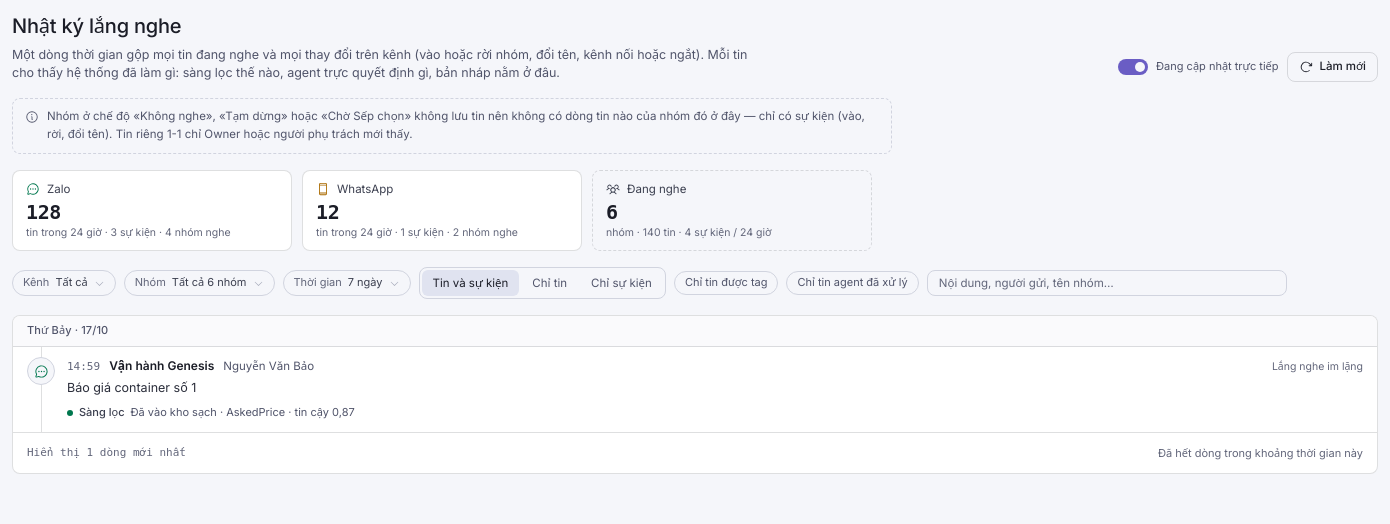
Test: vẽ màn › lọc gửi đúng tham số phía máy chủ (chỉ tin được tag, chỉ sự kiện, tìm chữ, xoá bộ lọc)
Expected: the text "Báo giá container số 1" is shown, [67, 380, 196, 395]
Click the button "Chỉ tin được tag" at (726, 283), box [674, 271, 778, 295]
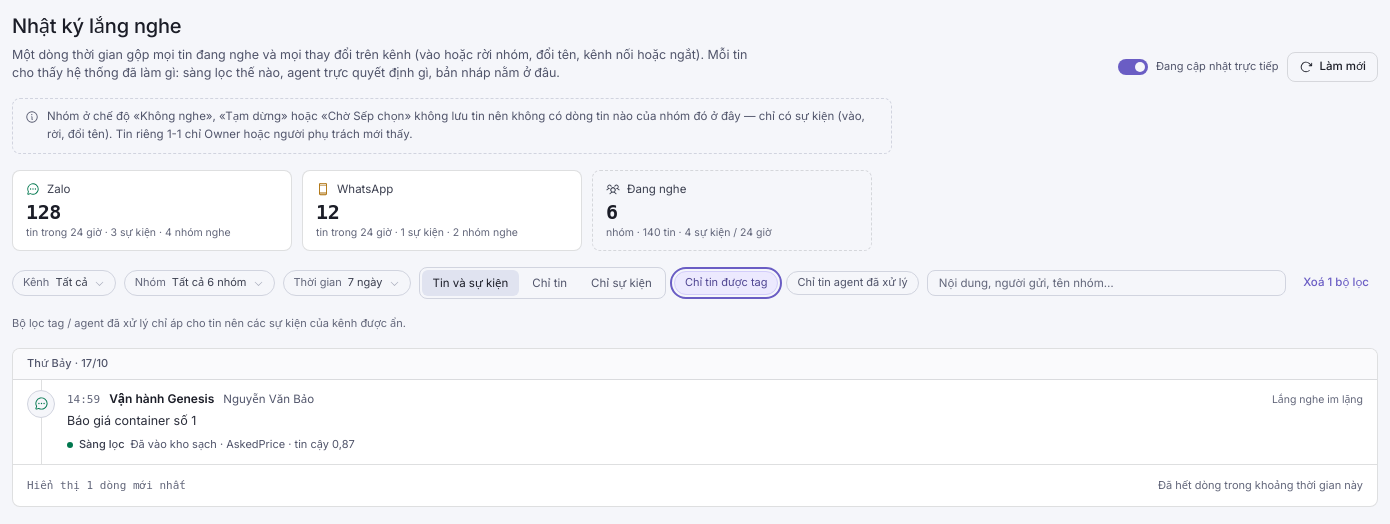
Now the text "Bộ lọc tag / agent đã xử lý chỉ áp cho tin nên các sự kiện của kênh được ẩn." is shown, box [12, 316, 406, 330]
Click the button "Chỉ tin agent đã xử lý" at (853, 283), box [786, 271, 919, 295]
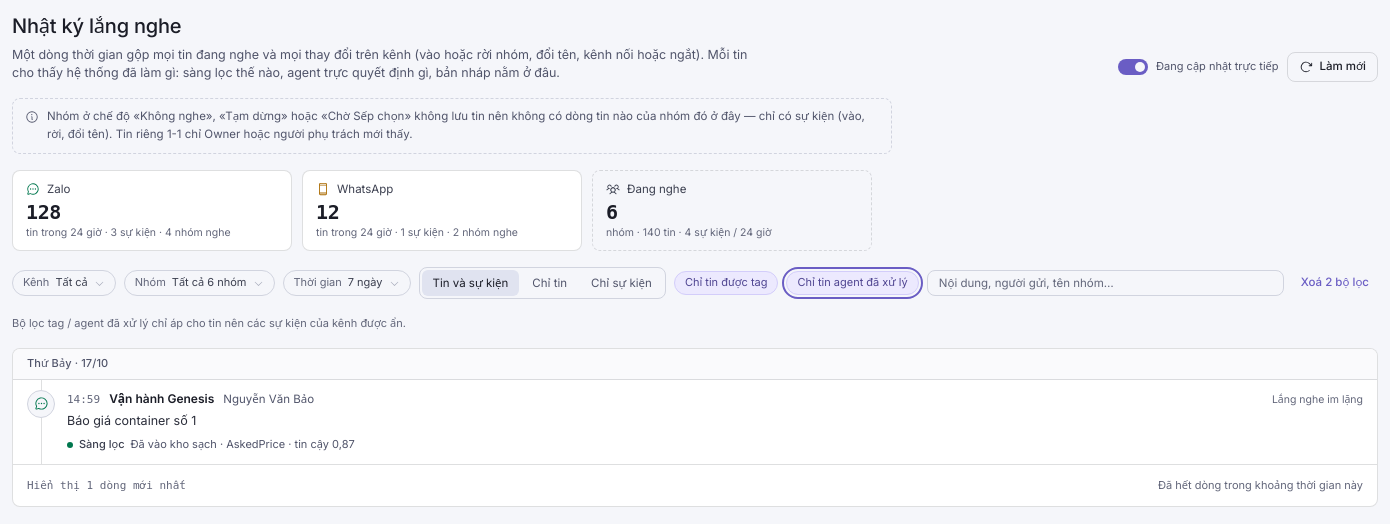
Click the radio button labelled "Chỉ sự kiện" at (621, 283), box [580, 270, 663, 296]
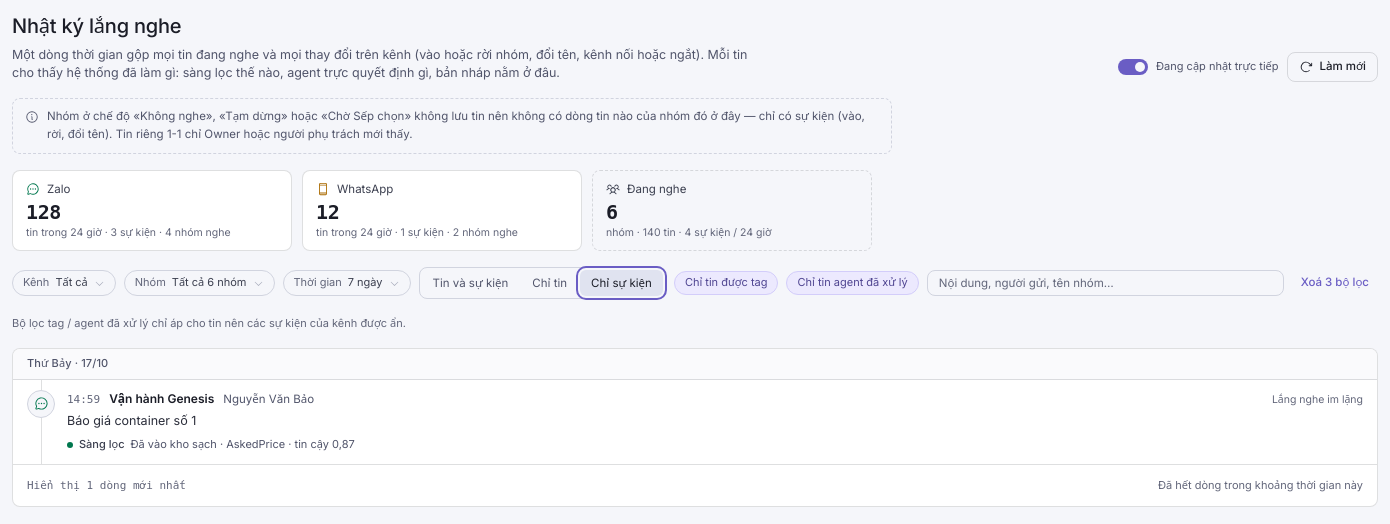
Type "báo giá" into the search field named "Tìm chữ" at (1105, 283), box [927, 270, 1284, 296]
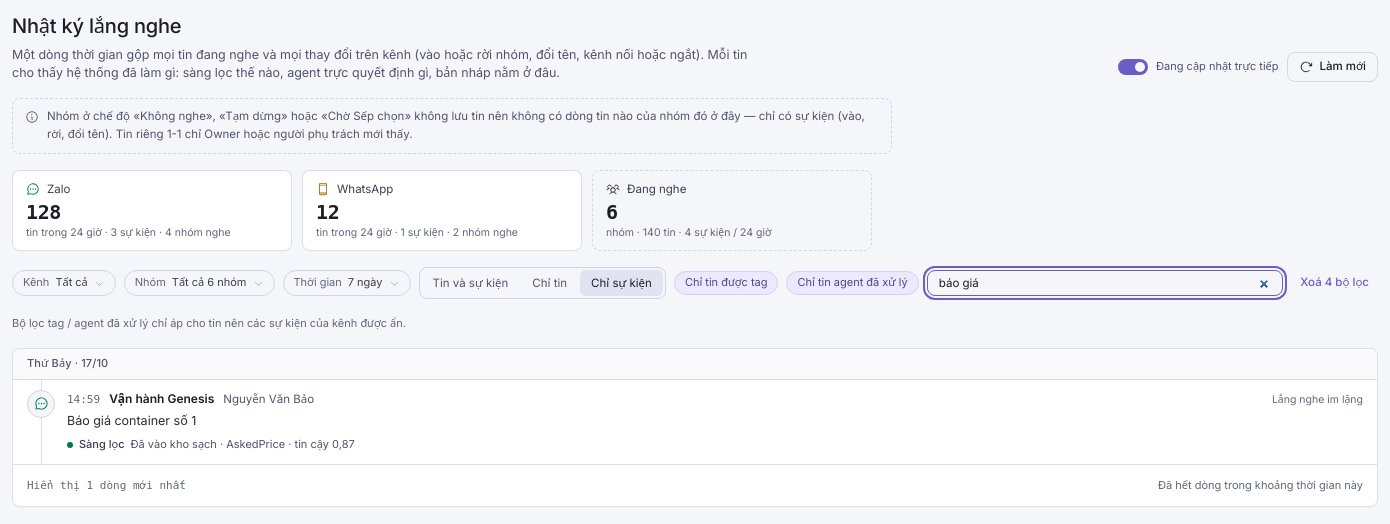
Click the button "Xoá 4 bộ lọc" at (1335, 283), box [1291, 270, 1378, 296]
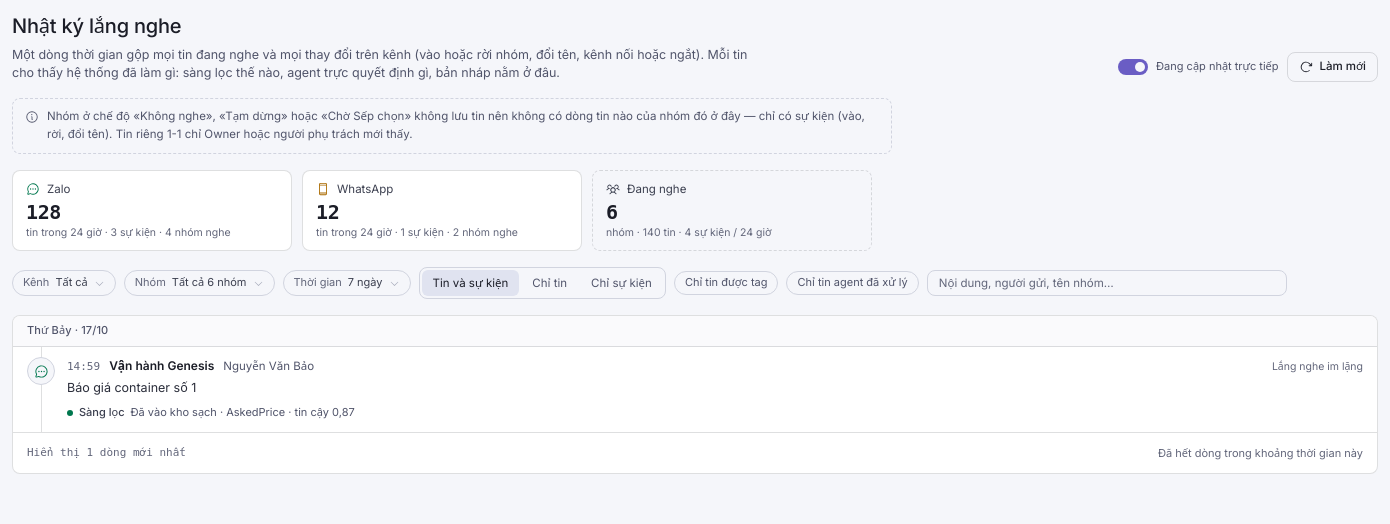
Now the button "Xoá 4 bộ lọc" is gone
Now the search field named "Tìm chữ" is empty, box [927, 270, 1287, 296]
